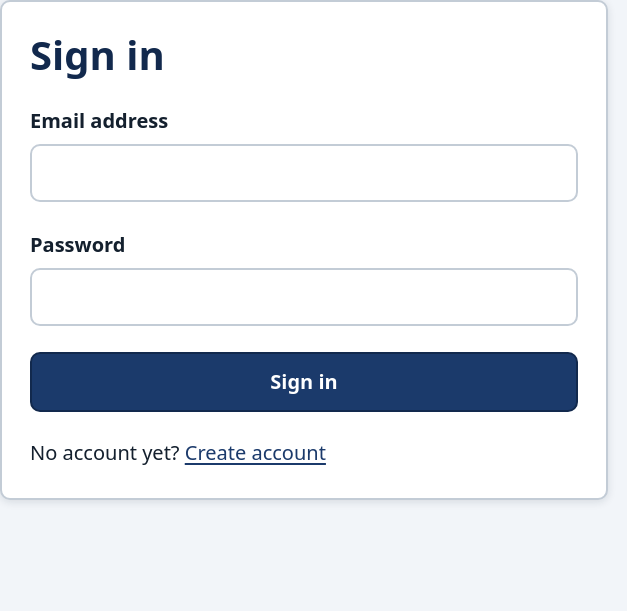
Test case: signing in › shows the message from the server when the details are wrong
This screenshot has width=627, height=611.
Type "someone@example.com" into the field labelled "Email address" at point(304, 173), box [30, 144, 578, 202]
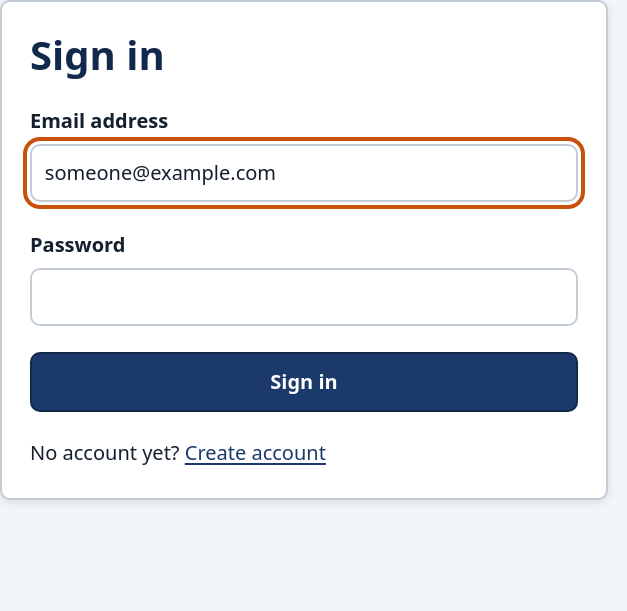
Type "wrong" into the password field labelled "Password" at point(304, 297), box [30, 268, 578, 326]
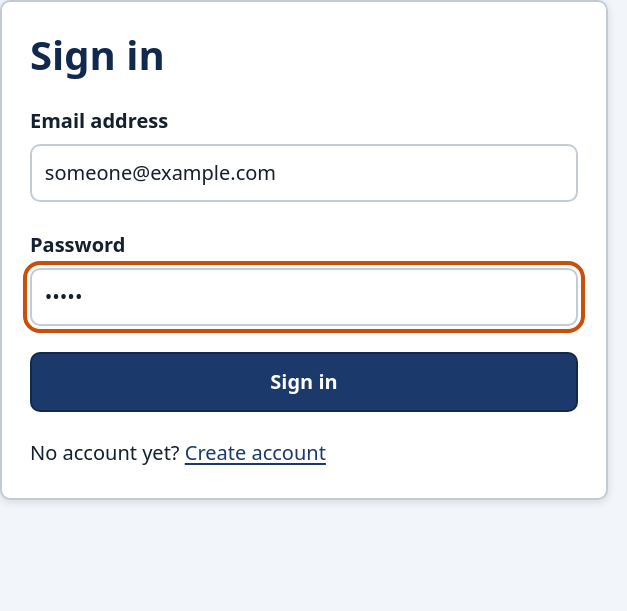
Click the button "Sign in" at point(304, 382), box [30, 352, 578, 412]
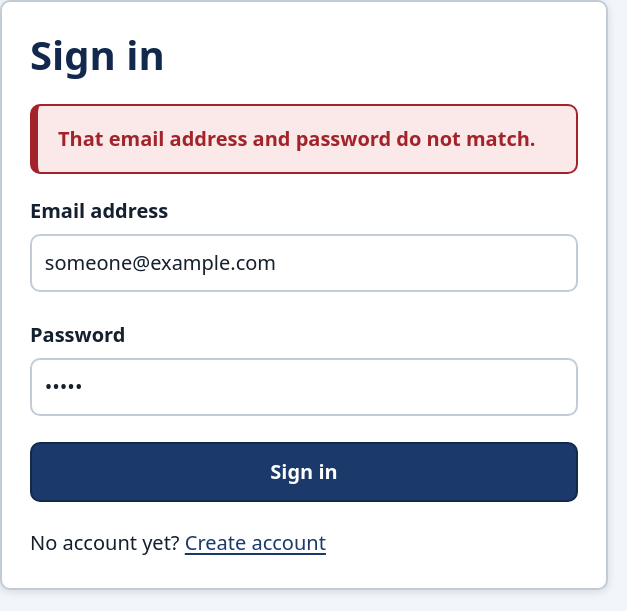
expect the message reads "That email address and password do not match.": met, box [58, 125, 536, 152]
